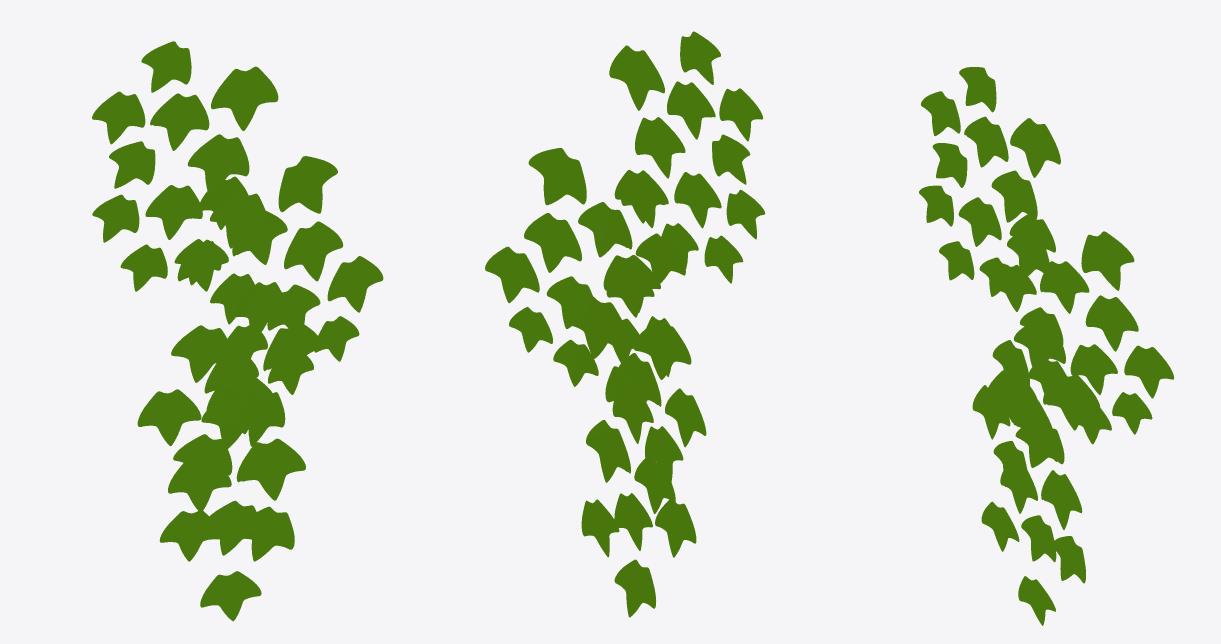
Rendered from Prop_Vine4.glb.
3 views of the same model, side by side, from view 1: azimuth 30°, elevation 25°; view 2: azimuth 150°, elevation 25°; view 3: azimuth 330°, elevation 25° (orthographic). The views are drawn at different scales.
Visible parts, largest first — view 1: Prop_Vine4; view 2: Prop_Vine4; view 3: Prop_Vine4.
Boxes of the visible parts, <box> form: Prop_Vine4: <box>92,41,383,621</box>; Prop_Vine4: <box>485,31,765,617</box>; Prop_Vine4: <box>919,67,1174,625</box>.
Bounding box in the file's own units: 1.02 × 1.59 × 0.1501.
Materials: 1 (1 with a texture image).
